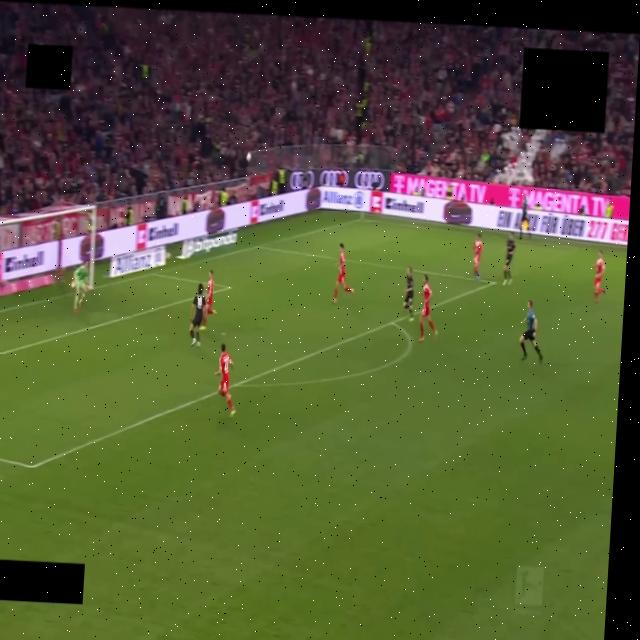ball: (246, 152, 251, 162)
player: (216, 344, 235, 416), (332, 243, 354, 302), (419, 275, 437, 342), (190, 283, 206, 346), (71, 261, 90, 312), (201, 271, 215, 331), (503, 235, 515, 285), (594, 251, 605, 303), (404, 267, 414, 321), (520, 197, 531, 239), (473, 233, 482, 280)
referee: (519, 300, 543, 362)
